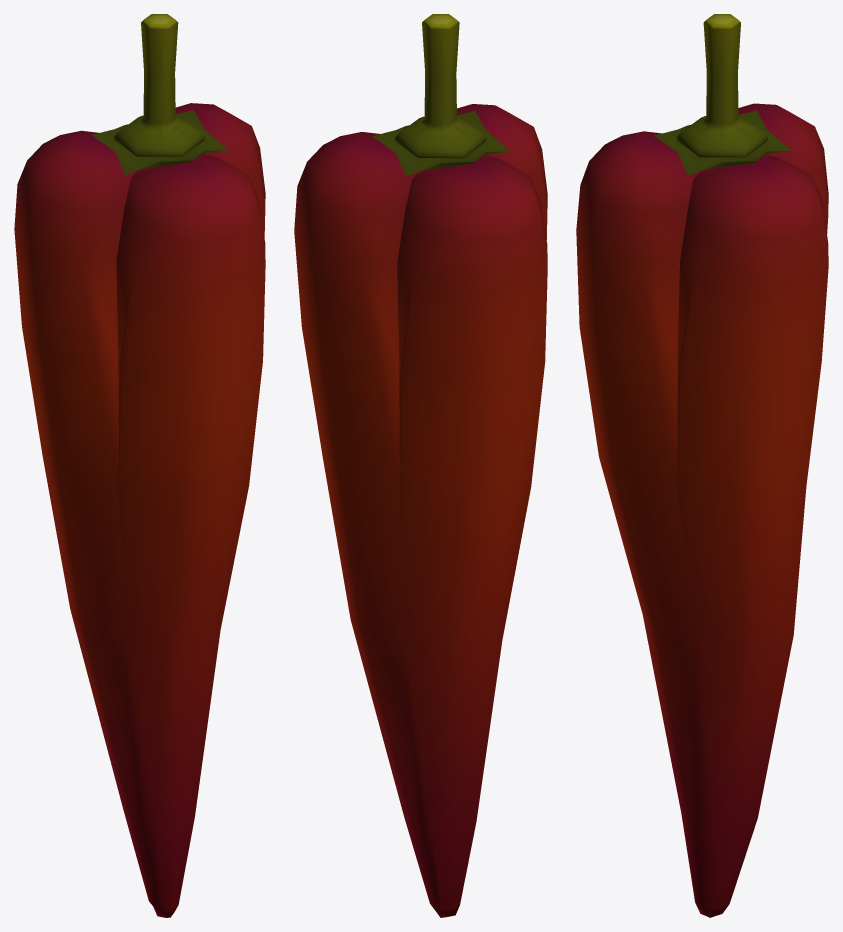
Rendered from Pepper_Pointed.fbx.
3 renders of one model, left to right at view 1: azimuth 30°, elevation 25°; view 2: azimuth 150°, elevation 25°; view 3: azimuth 270°, elevation 25°, orthographic.
Parts seen in each view (by area): view 1: Pepper_Pointed_Whole; view 2: Pepper_Pointed_Whole; view 3: Pepper_Pointed_Whole.
Boxes of the visible parts, bbox=[...] form: Pepper_Pointed_Whole: bbox=[14, 14, 265, 917]; Pepper_Pointed_Whole: bbox=[294, 14, 547, 917]; Pepper_Pointed_Whole: bbox=[576, 14, 828, 917].
Size of the model in its own units: 1.64 by 6.03 by 1.54.
